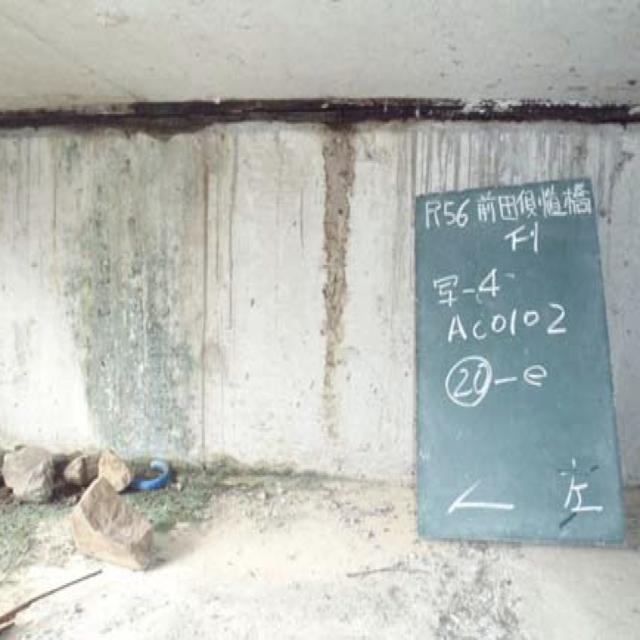freelime: (64, 164, 189, 453)
leakage: (16, 98, 630, 146), (304, 146, 363, 391)
